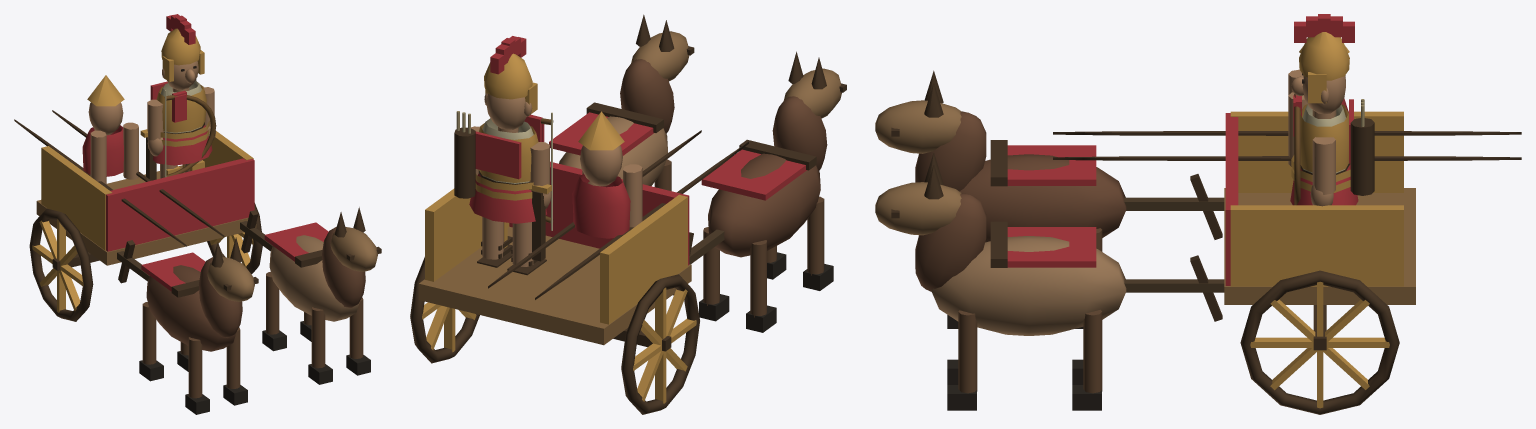
The model's file is chariot_team1.glb.
3 renders of one model, left to right at view 1: azimuth 30°, elevation 25°; view 2: azimuth 150°, elevation 25°; view 3: azimuth 270°, elevation 25°, orthographic. The views are drawn at different scales.
Visible parts, largest first — view 1: part_23, part_24, part_21, part_11, part_12, part_1, part_19, part_15, part_13, part_0, part_17, part_16 (+4 smaller); view 2: part_23, part_24, part_21, part_11, part_0, part_13, part_1, part_15, part_12, part_14, part_7, part_5 (+4 smaller); view 3: part_23, part_24, part_21, part_11, part_0, part_1, part_18, part_20, part_12, part_4, part_2.
Boxes of the visible parts, box(x1,y1,x2,y2) form: part_23: box(29, 158, 381, 351); part_24: box(32, 131, 253, 312); part_21: box(14, 102, 224, 246); part_11: box(150, 79, 212, 165); part_12: box(156, 84, 209, 146); part_1: box(161, 28, 204, 81); part_19: box(308, 307, 332, 384); part_15: box(185, 337, 209, 414); part_13: box(139, 302, 163, 381); part_0: box(162, 14, 198, 89); part_17: box(262, 272, 286, 351); part_16: box(223, 327, 247, 405); part_23: box(410, 14, 846, 414); part_24: box(422, 188, 696, 403); part_21: box(488, 130, 748, 299); part_11: box(454, 111, 546, 223); part_0: box(484, 36, 532, 129); part_13: box(746, 240, 776, 332); part_1: box(484, 53, 537, 115); part_15: box(803, 196, 833, 290); part_12: box(475, 123, 538, 200); part_14: box(699, 227, 729, 321); part_7: box(477, 217, 512, 267); part_5: box(507, 222, 546, 275); part_23: box(875, 70, 1415, 414); part_24: box(1230, 111, 1403, 408); part_21: box(1053, 69, 1521, 166); part_11: box(1290, 95, 1374, 205); part_0: box(1291, 14, 1354, 114); part_1: box(1299, 32, 1349, 103); part_18: box(1072, 309, 1102, 410); part_20: box(947, 310, 977, 410); part_12: box(1291, 104, 1350, 192); part_4: box(1310, 137, 1335, 206); part_2: box(1294, 94, 1300, 205).
Bounding box in the file's own units: 2.02 × 2.85 × 4.55.
